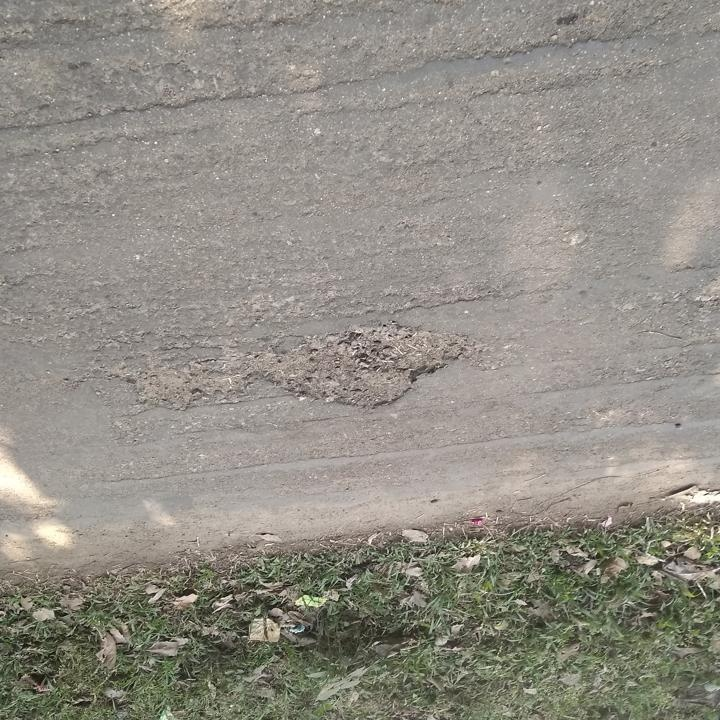pothole: (120, 322, 480, 417)
